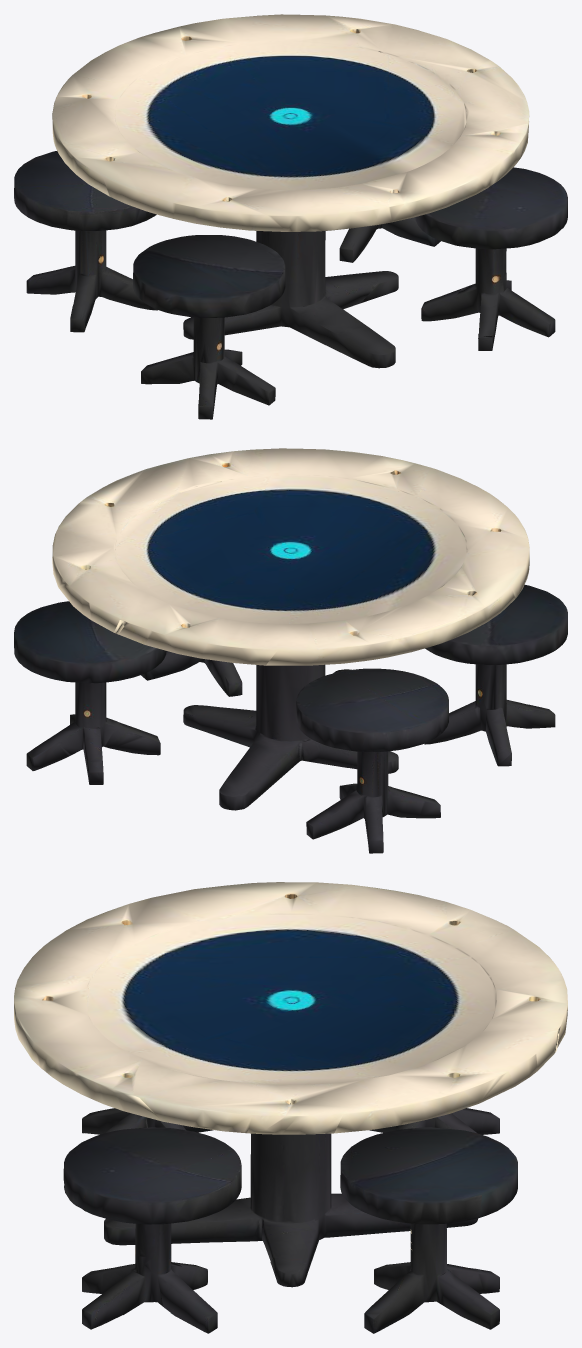
Rendered from community_team_table.glb.
3 views of the same model, one above another, from view 1: azimuth 30°, elevation 25°; view 2: azimuth 150°, elevation 25°; view 3: azimuth 270°, elevation 25° (orthographic). The views are drawn at different scales.
Size of the model in its own units: 1.9 by 0.8679 by 1.89.
Materials: 1 (1 with a texture image).
